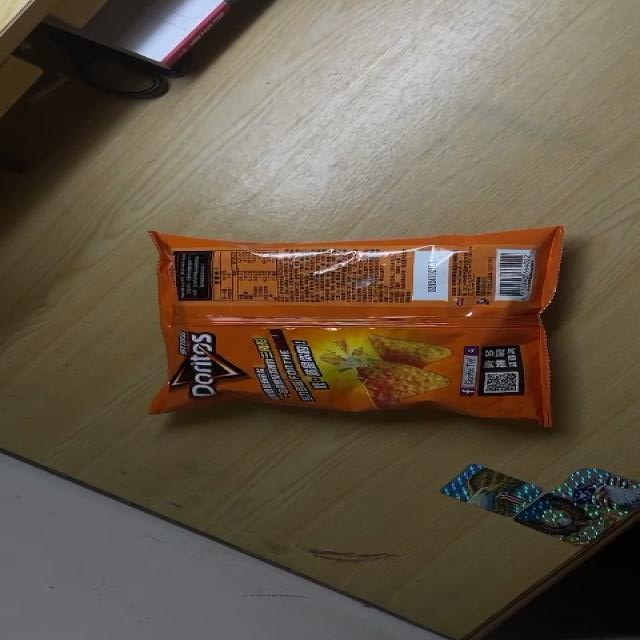Doritos: (141, 224, 568, 425)
